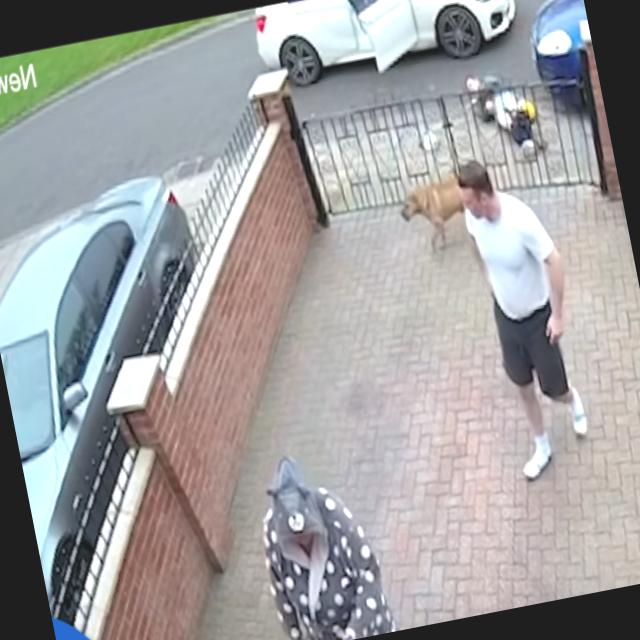person: (452, 148, 602, 484), (246, 443, 397, 640)
